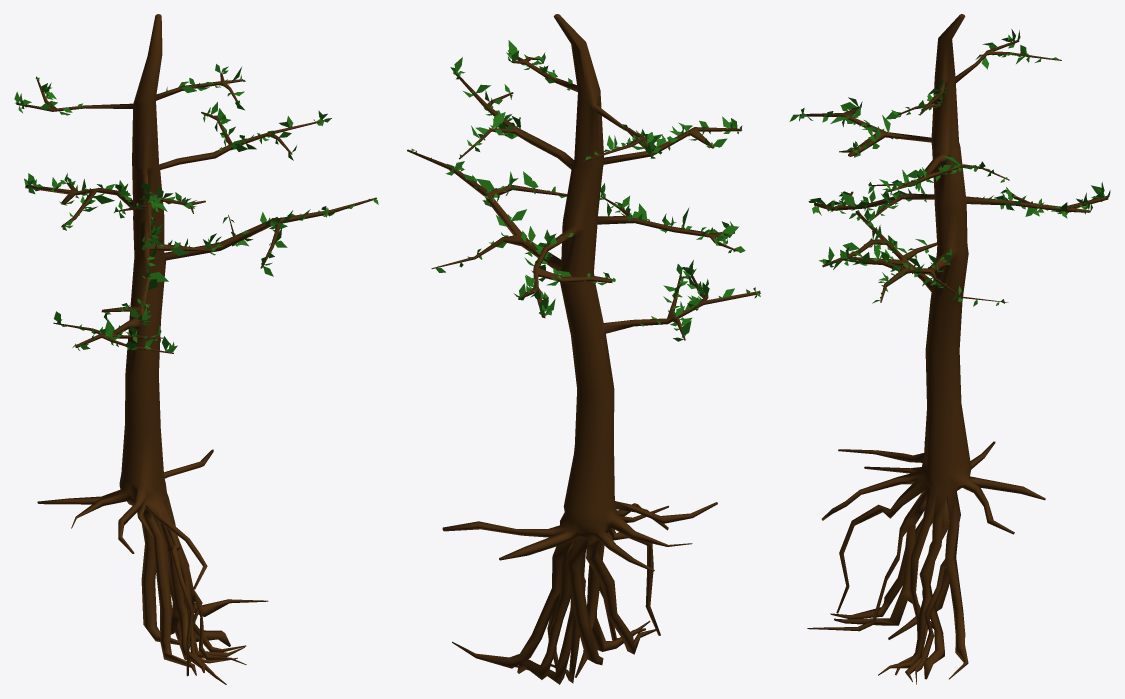
Rendered from tree.fbx.
3 views of the same model, side by side, from view 1: azimuth 30°, elevation 25°; view 2: azimuth 150°, elevation 25°; view 3: azimuth 270°, elevation 25° (orthographic). The views are drawn at different scales.
Visible parts, largest first — view 1: Cube.001; view 2: Cube.001; view 3: Cube.001.
Part boxes in pixels (x1,y1,x2,y2): Cube.001: (14,14,378,684); Cube.001: (407,14,760,684); Cube.001: (789,14,1110,684).
Bounding box in the file's own units: 1214 × 2337 × 1060.
